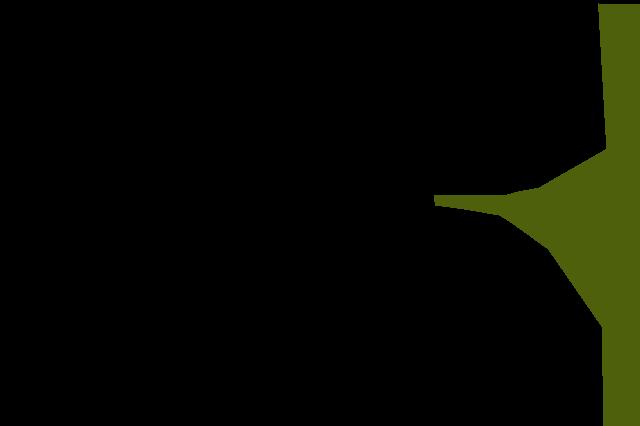Train: (434, 3, 640, 426)
